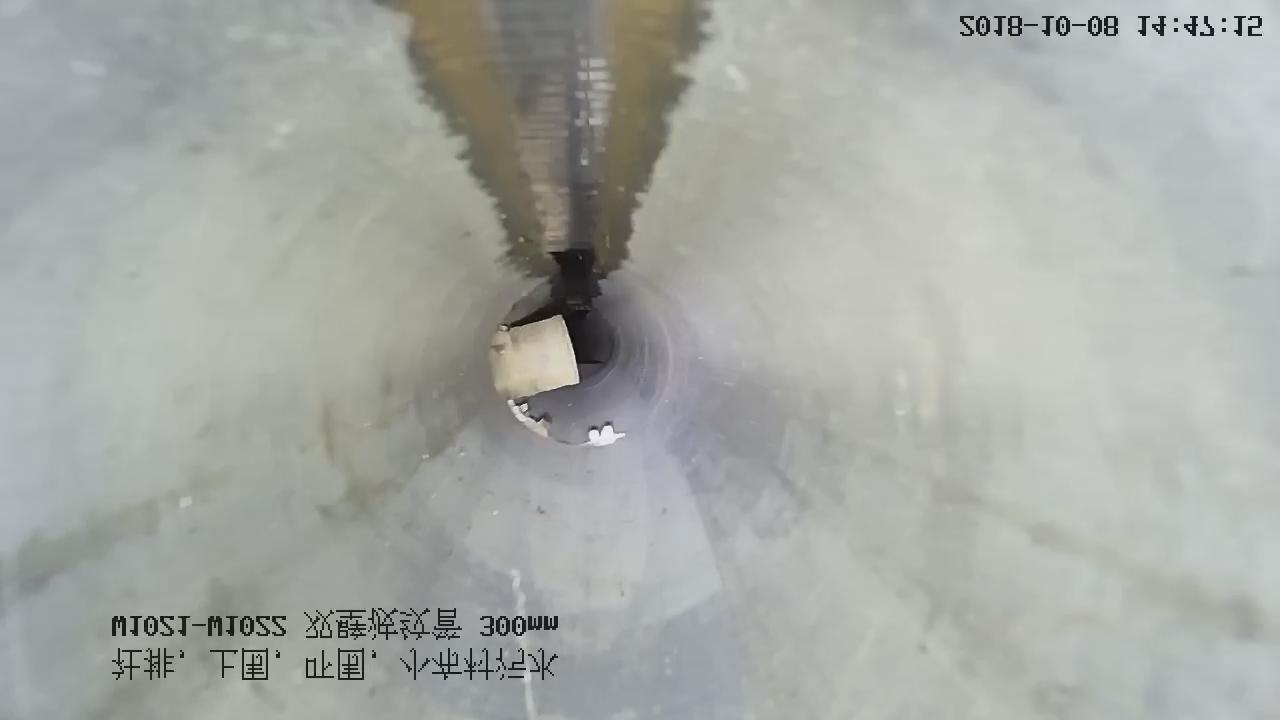JKCL: (507, 399, 553, 438), (579, 422, 625, 447), (555, 440, 572, 444)
ZGAJ: (489, 316, 578, 399)
